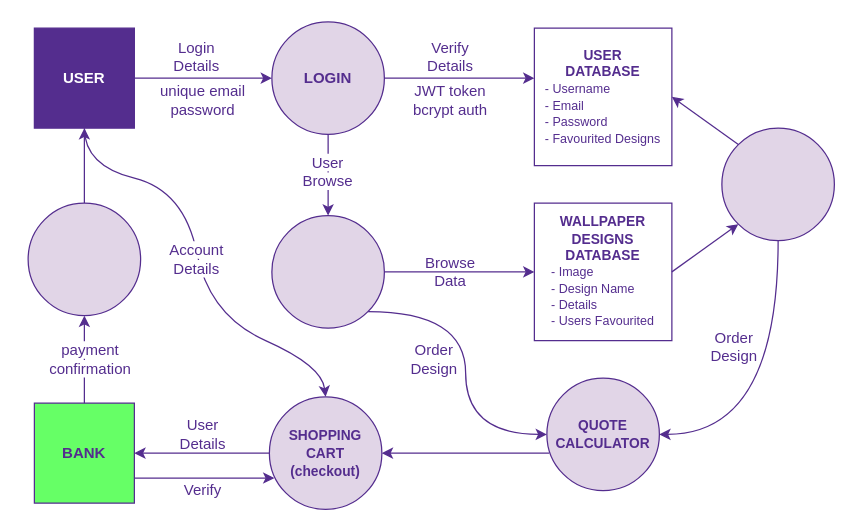
Some shapes in this 856 by 531 pixel diagram are drawn without their labels. The box of each missing label's shape, as (x1, y1, x2, y2) in pixels:
FAVOURITED WALLPAPERS: (721, 127, 834, 241)
GALLERY: (271, 214, 384, 328)
REMITTANCE ADVICE: (27, 202, 141, 316)
